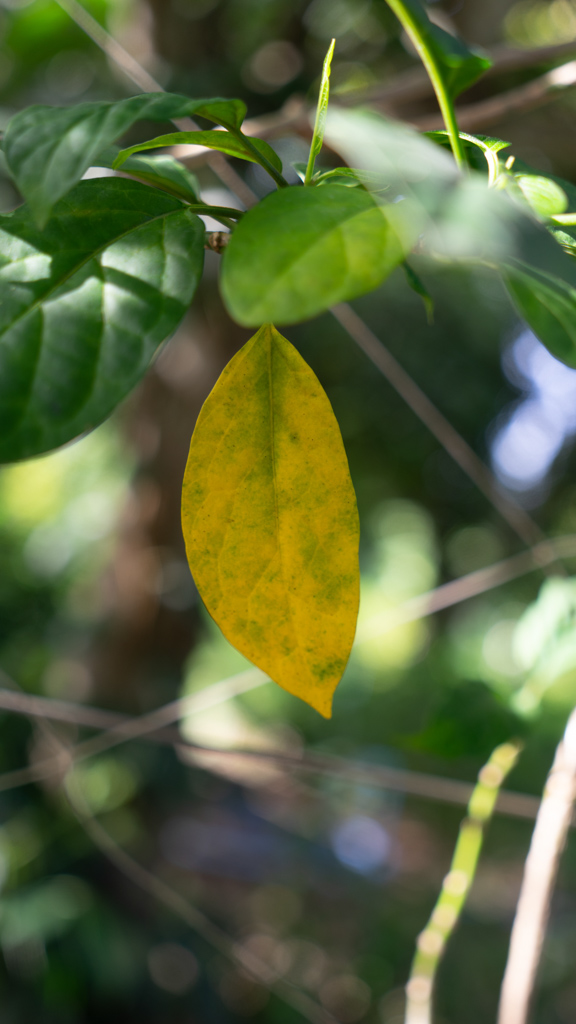Pepper yellow leaf: (179, 329, 369, 713)
